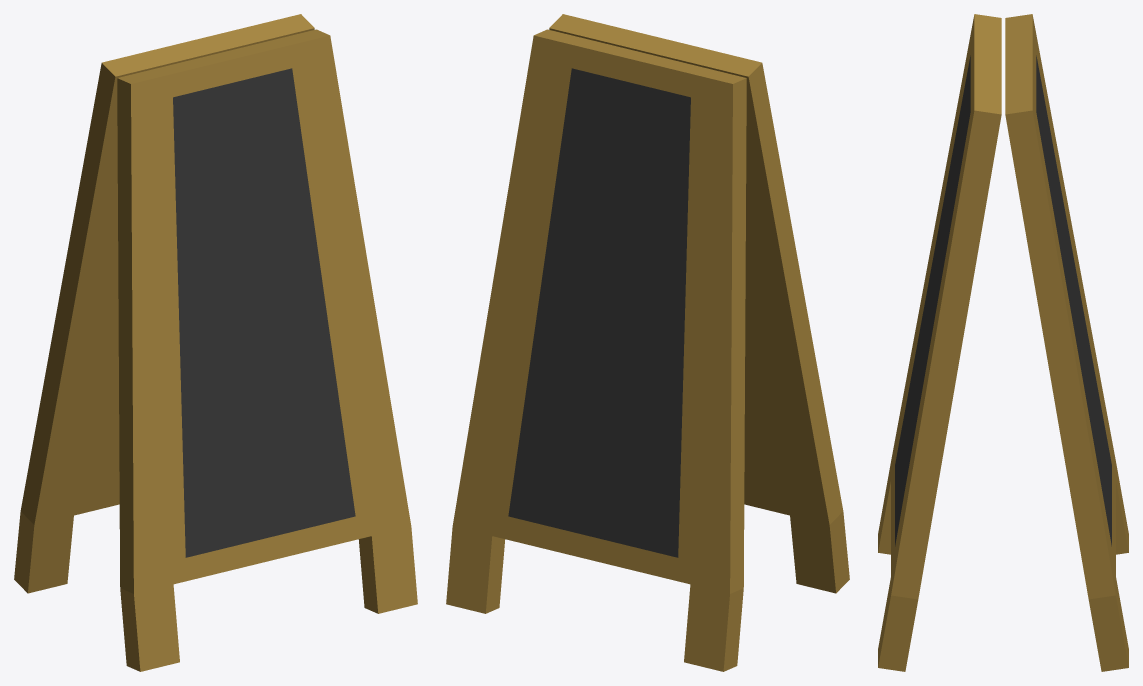
The model's file is PapanToko.fbx.
3 renders of one model, left to right at view 1: azimuth 30°, elevation 25°; view 2: azimuth 150°, elevation 25°; view 3: azimuth 270°, elevation 25°, orthographic.
Parts seen in each view (by area): view 1: Cube.022; view 2: Cube.022; view 3: Cube.022.
Part boxes in pixels (x1,y1,x2,y2): Cube.022: (14,14,417,671); Cube.022: (446,14,849,671); Cube.022: (878,14,1128,671).
Size of the model in its own units: 200 by 377 by 158.
